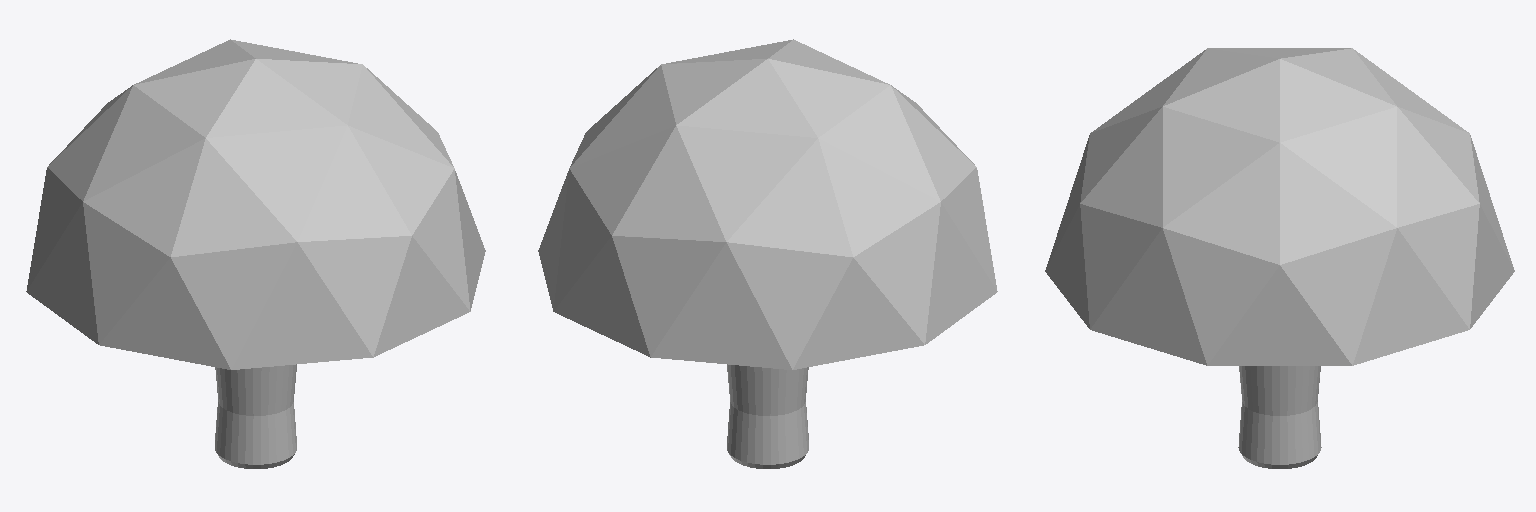
The model's file is mushroom.obj.
3 renders of one model, left to right at view 1: azimuth 30°, elevation 25°; view 2: azimuth 150°, elevation 25°; view 3: azimuth 270°, elevation 25°, orthographic.
Visible parts, largest first — view 1: Icosphere, Cylinder; view 2: Icosphere, Cylinder; view 3: Icosphere, Cylinder.
Boxes of the visible parts, x1,y1,x2,y2 form: Icosphere: [26, 39, 485, 369]; Cylinder: [215, 364, 296, 468]; Icosphere: [538, 39, 997, 369]; Cylinder: [727, 364, 808, 468]; Icosphere: [1045, 48, 1514, 365]; Cylinder: [1238, 366, 1321, 468].
Bounding box in the file's own units: 1.9 × 1.85 × 2.